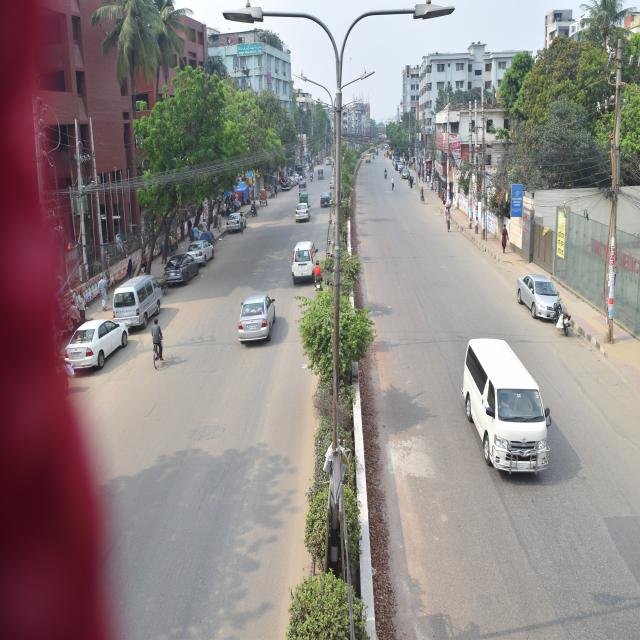car: (60, 320, 136, 376), (507, 263, 568, 322), (232, 293, 285, 354), (164, 252, 196, 293), (188, 235, 215, 267), (223, 212, 251, 240), (290, 200, 312, 227)
microbus: (456, 327, 556, 495), (110, 269, 166, 334), (288, 233, 318, 287)
motorbike: (545, 293, 574, 337), (309, 260, 325, 292), (382, 164, 391, 180), (308, 169, 317, 182)
